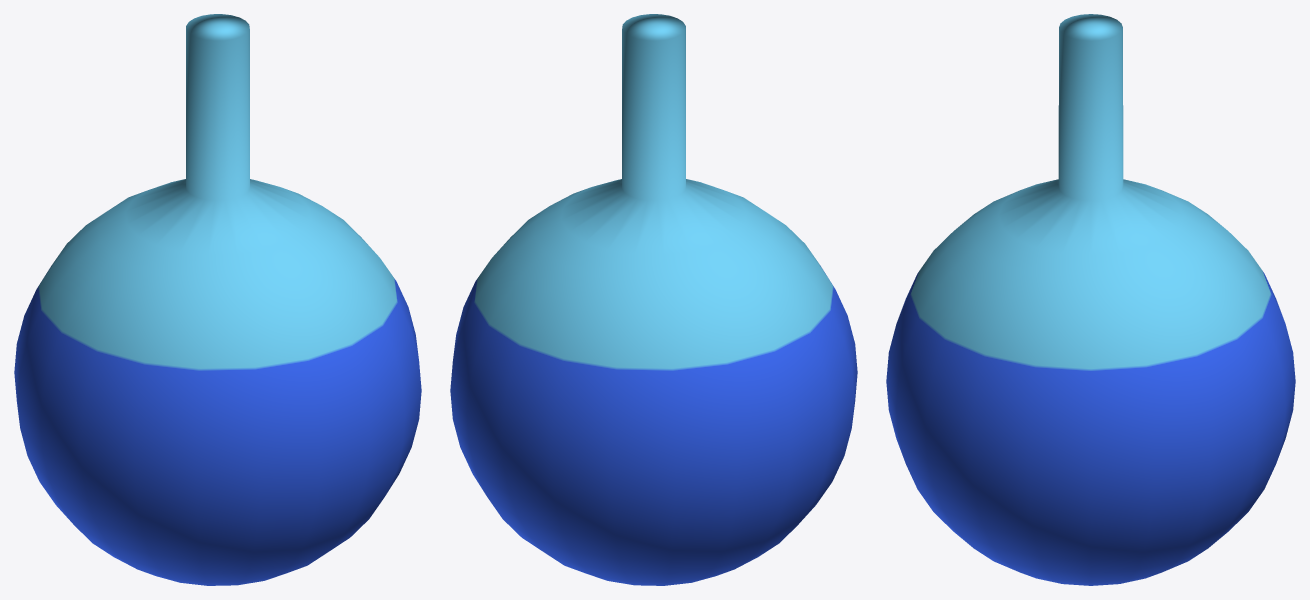
File: Mana Potion.fbx
3 views of the same model, side by side, from view 1: azimuth 30°, elevation 25°; view 2: azimuth 150°, elevation 25°; view 3: azimuth 270°, elevation 25° (orthographic).
Parts seen in each view (by area): view 1: pSphere1; view 2: pSphere1; view 3: pSphere1.
Boxes of the visible parts, bbox=[...] form: pSphere1: bbox=[14, 14, 421, 585]; pSphere1: bbox=[450, 14, 857, 585]; pSphere1: bbox=[886, 14, 1295, 585].
Bounding box in the file's own units: 2 × 2.92 × 2.
